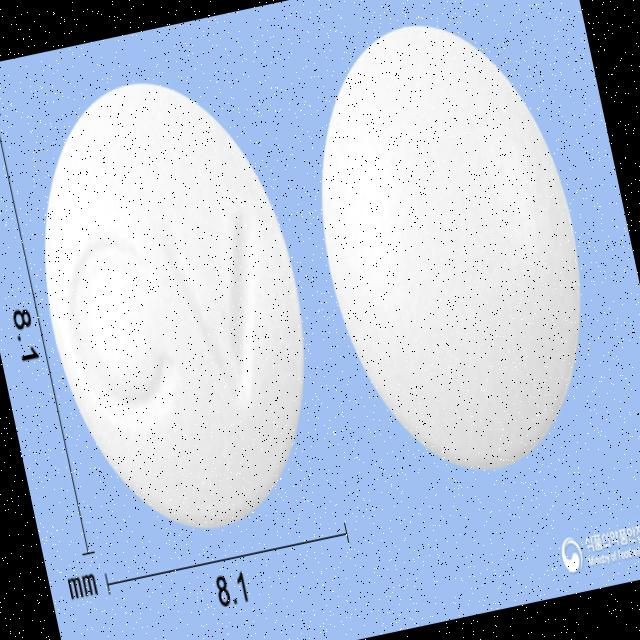Jeil Cravit: (4, 52, 343, 552), (282, 0, 621, 494)
